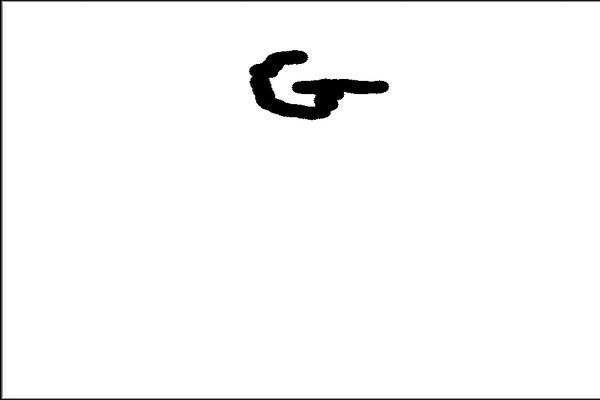G: (243, 45, 394, 127)
